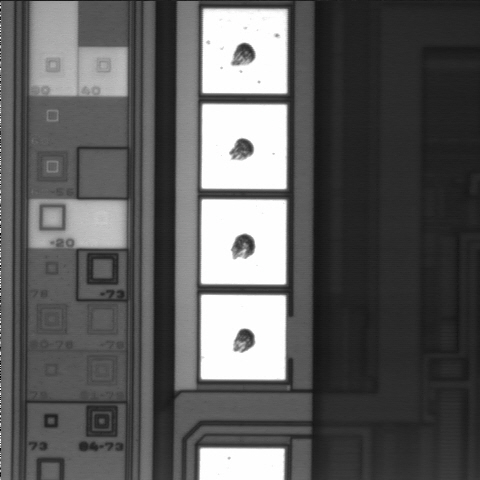pad: (202, 104, 287, 189), (201, 199, 286, 284), (201, 295, 286, 380), (202, 9, 287, 93)
